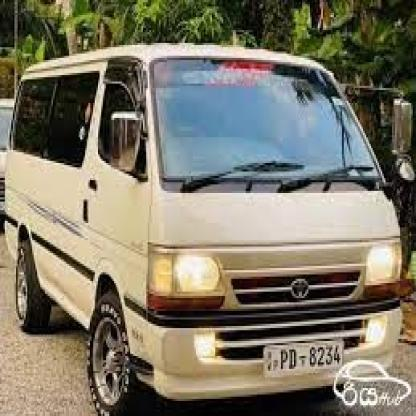number plate: (274, 340, 345, 374)
van front: (1, 39, 396, 416)
